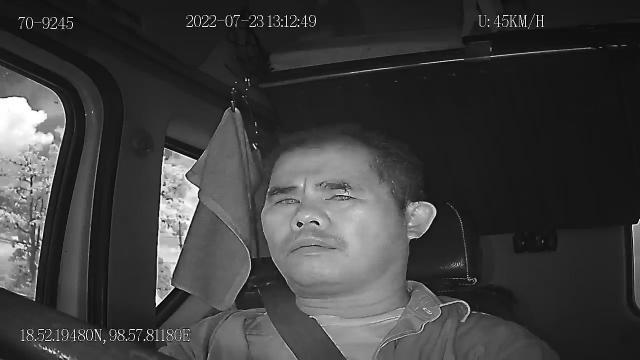SafeDriving: (317, 179, 362, 208), (268, 188, 306, 212)
Seatbelt: (256, 284, 350, 360)
